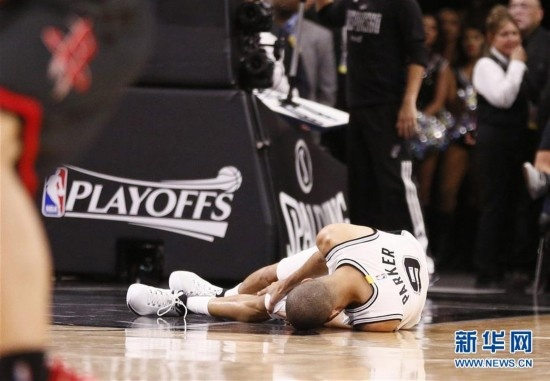falling: (121, 203, 441, 343)
